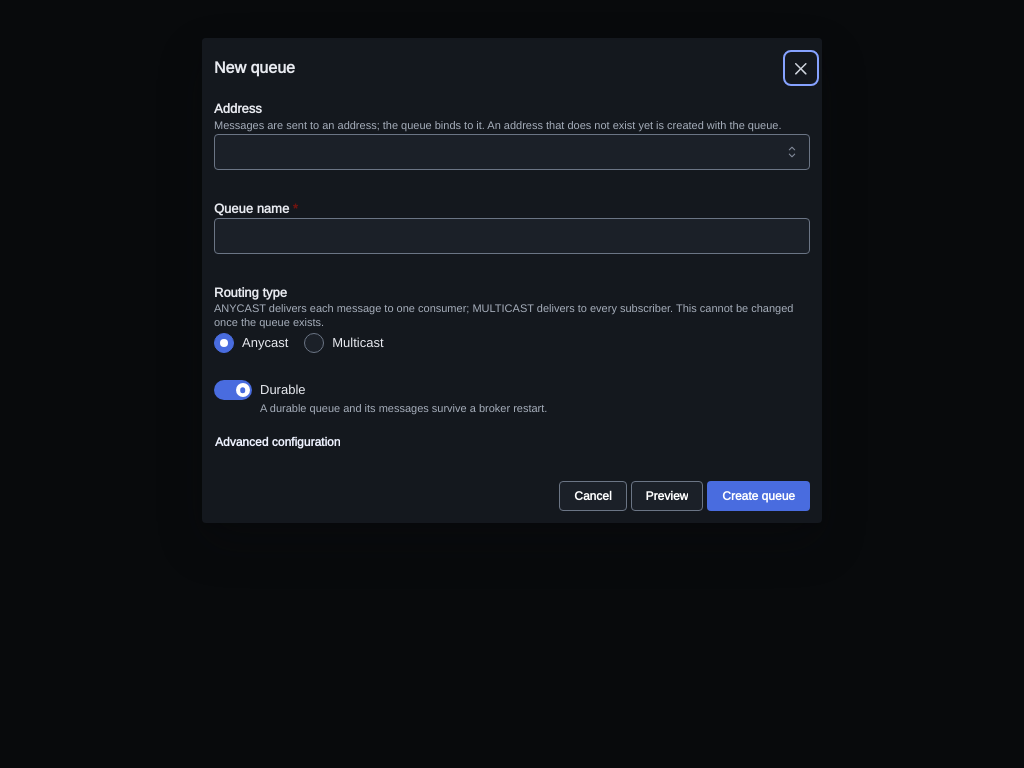
Scenario: CreateQueueForm › previews the per-node outcome without creating anything
The width and height of the screenshot is (1024, 768).
Type "orders" into the field labelled "Address" at (512, 152), box [214, 134, 810, 170]
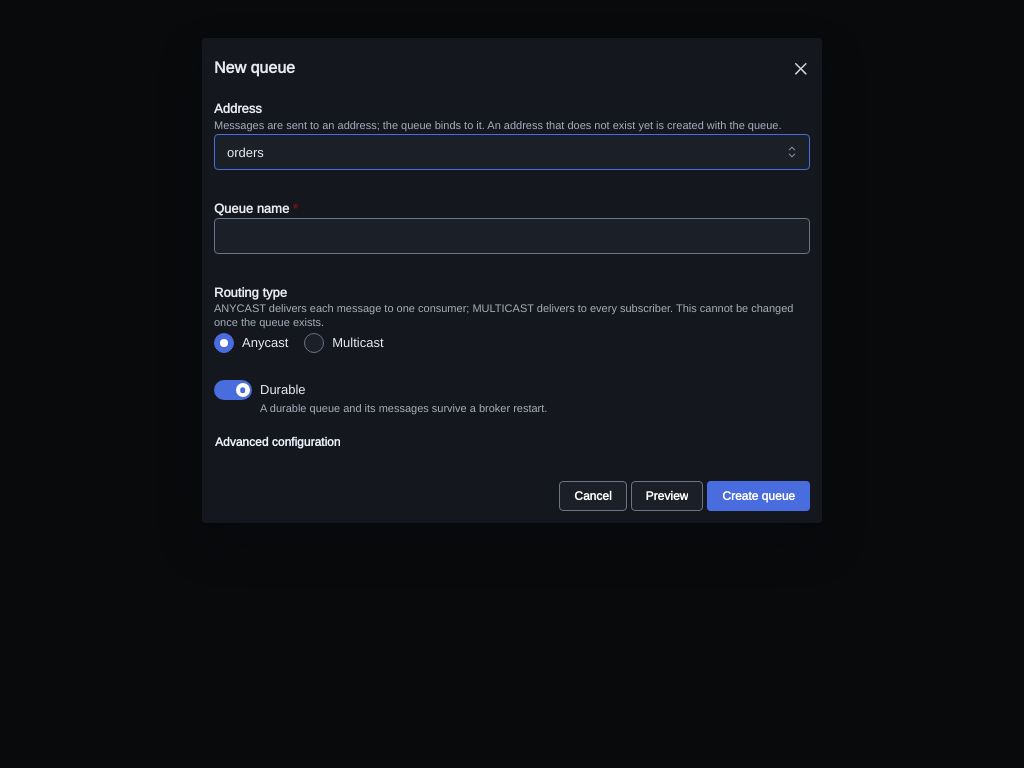
Type "orders" into the field labelled "Queue name *" at (512, 236), box [214, 218, 810, 254]
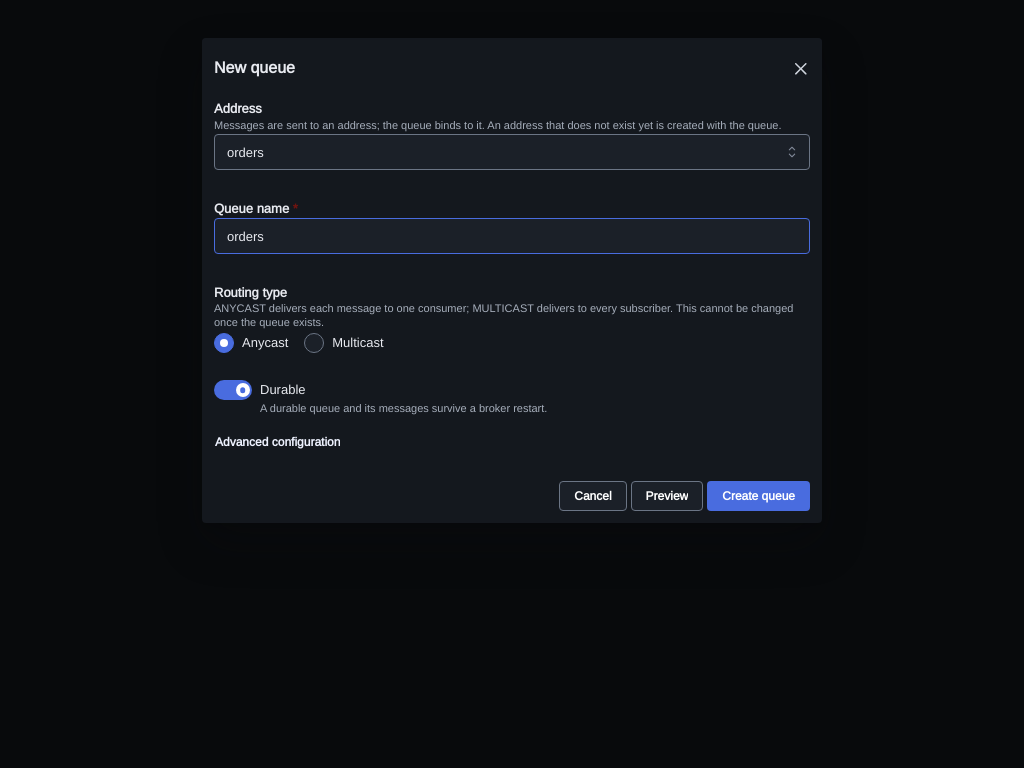
Click the button "Preview" at (667, 496), box [631, 481, 703, 511]
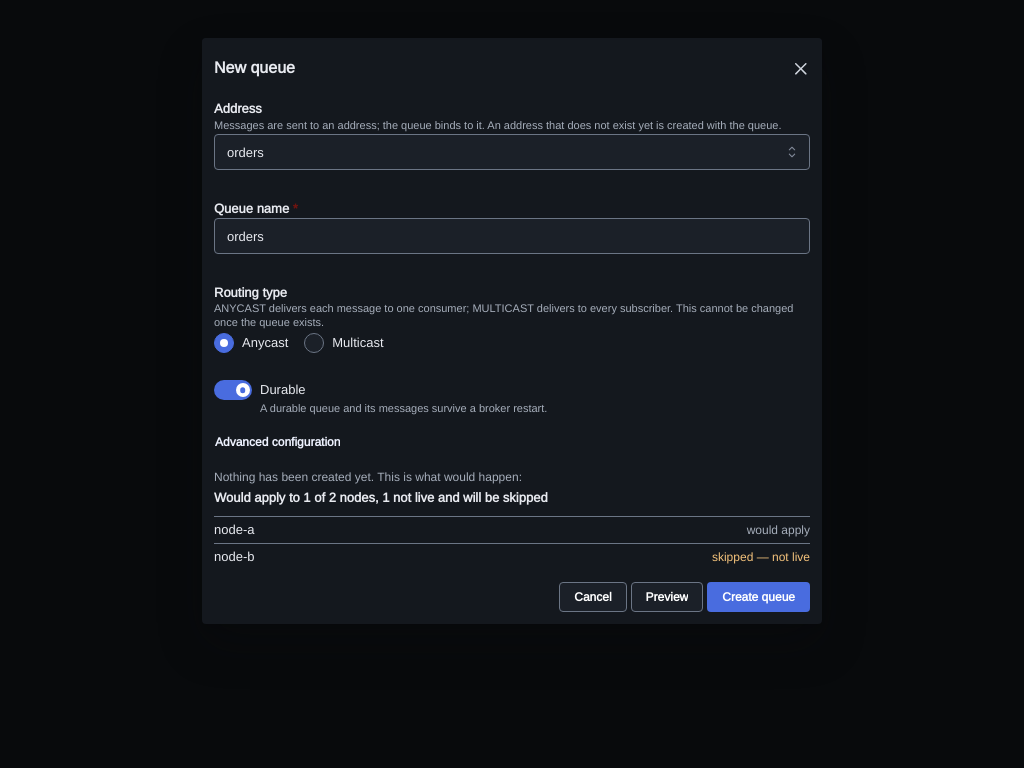
Expected: the text "Would apply to 1 of 2 nodes, 1 not live and will be skipped" is shown, [214, 489, 548, 508]
Expected: the text "Nothing has been created yet. This is what would happen:" is shown, [214, 469, 522, 485]
